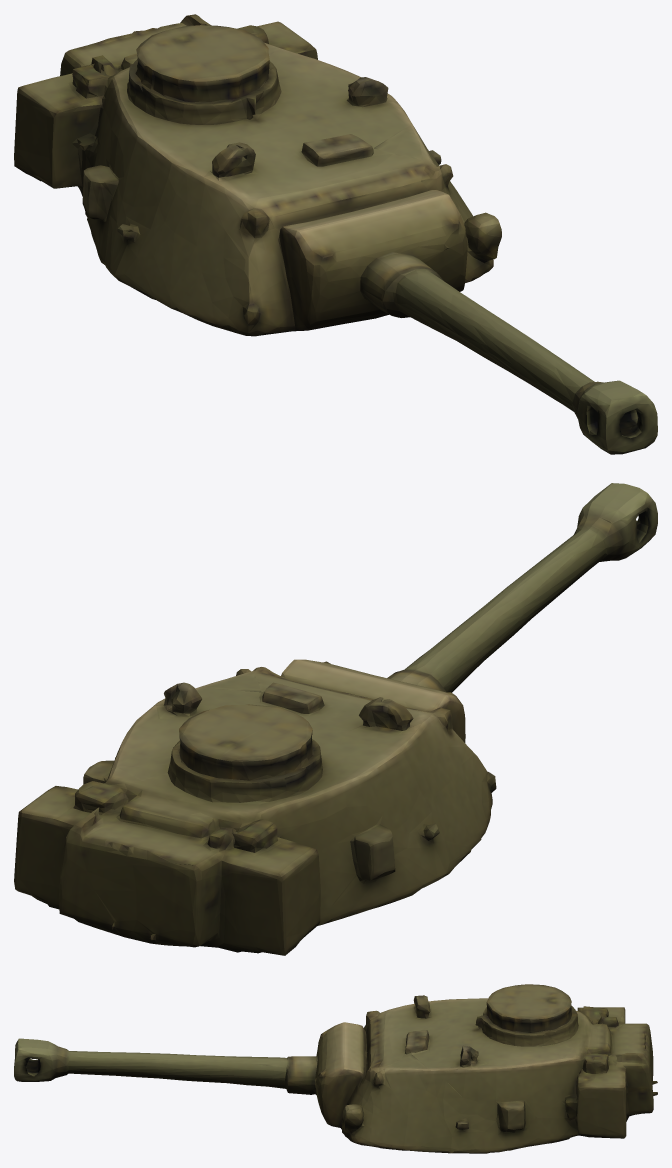
Rendered from m26_pershing_turret.glb.
The picture shows the model from 3 angles, top to bottom: view 1: azimuth 30°, elevation 25°; view 2: azimuth 150°, elevation 25°; view 3: azimuth 270°, elevation 25°; orthographic projection. The views are drawn at different scales.
Parts seen in each view (by area): view 1: turret; view 2: turret; view 3: turret.
Boxes of the visible parts, <box> form: turret: <box>14,14,657,454</box>; turret: <box>14,483,657,955</box>; turret: <box>14,984,657,1153</box>.
Bounding box in the file's own units: 0.311 × 0.1448 × 0.8313.
2 materials, 1 textured.
